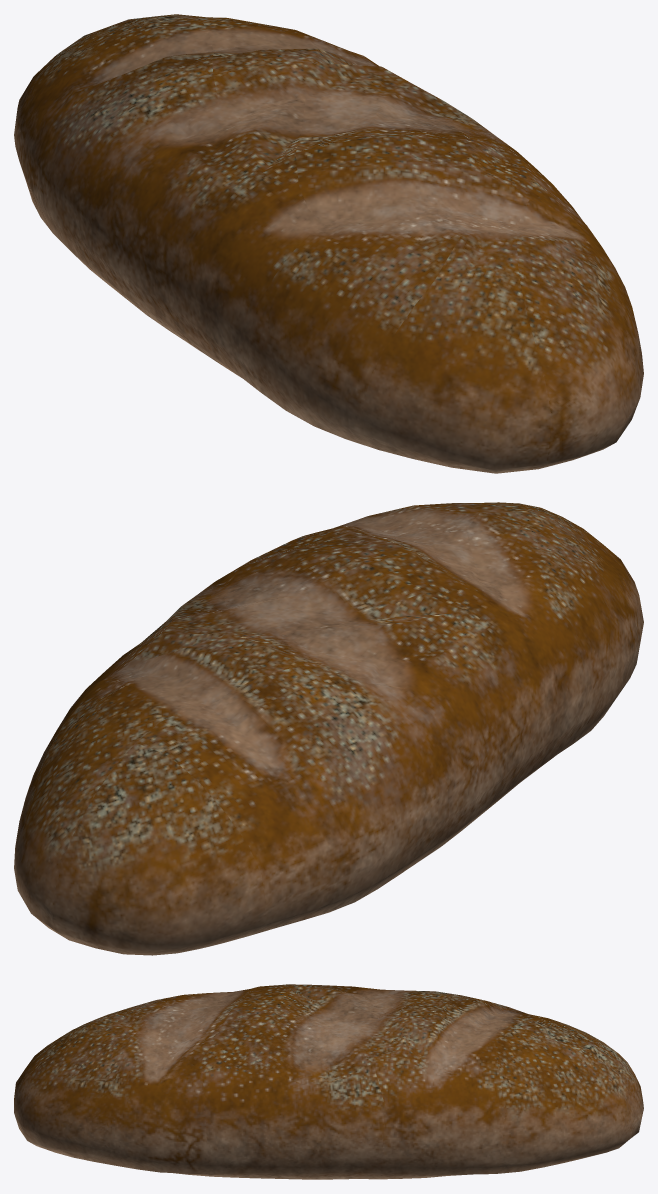
Rendered from Bread_19_grainbread_a_mesh.obj.
3 renders of one model, top to bottom at view 1: azimuth 30°, elevation 25°; view 2: azimuth 150°, elevation 25°; view 3: azimuth 270°, elevation 25°, orthographic. The views are drawn at different scales.
Bounding box in the file's own units: 0.1563 × 0.0842 × 0.3636.
